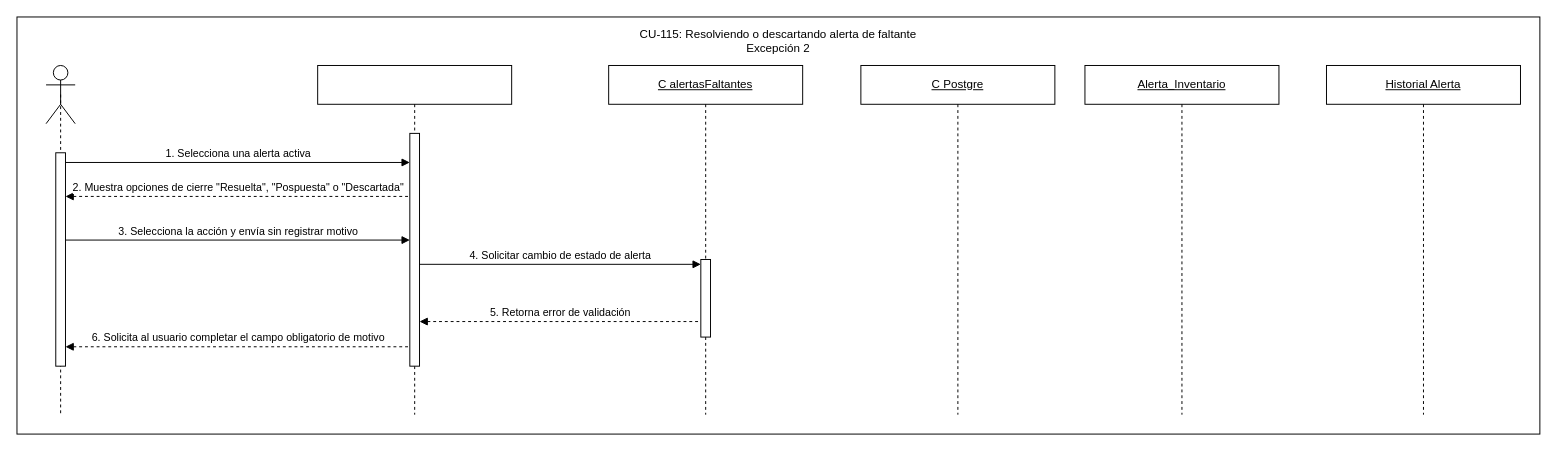
The diagram is 1557 pixels wide and 451 high, and some of its shapes have lost their labels. The shapes that lost their labels are listed below. From the top down, each one's box as (x1, y1, x2, y2) in pixels, then its label:
(45, 65, 75, 124): Gerencia/JOP
(317, 65, 512, 415): V Alertas de Faltantes
